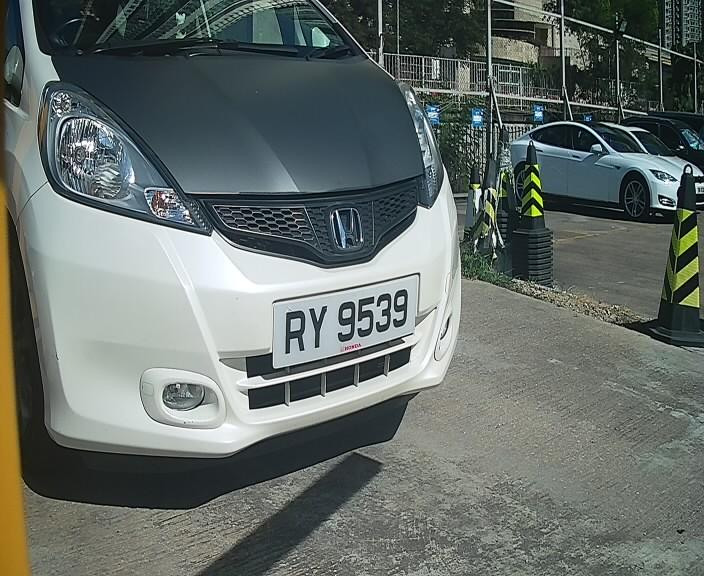License Plate: (268, 271, 422, 376)
